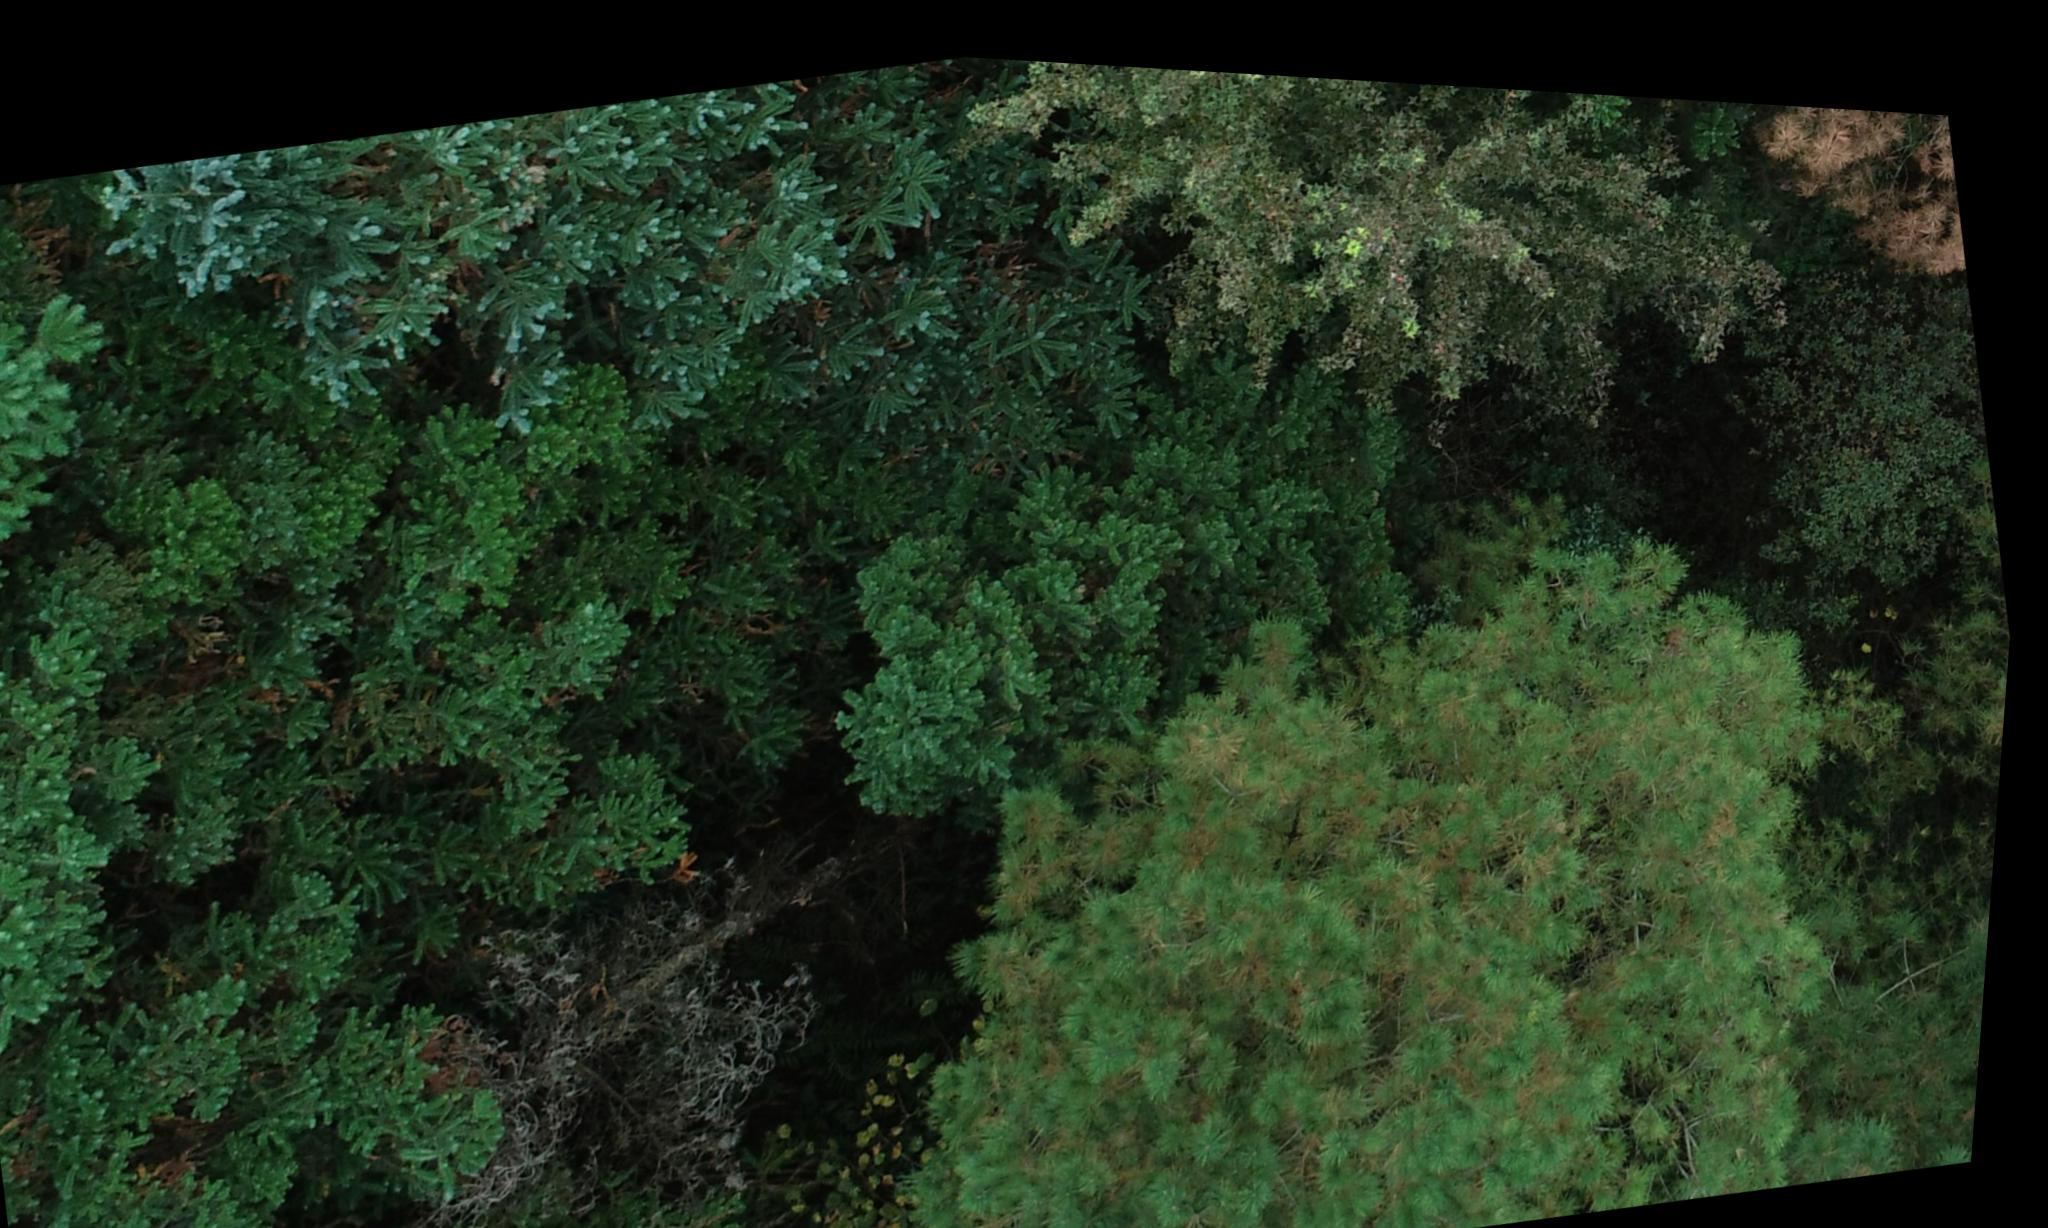heavy: (1656, 77, 1979, 308)
light: (746, 439, 1966, 1228)
